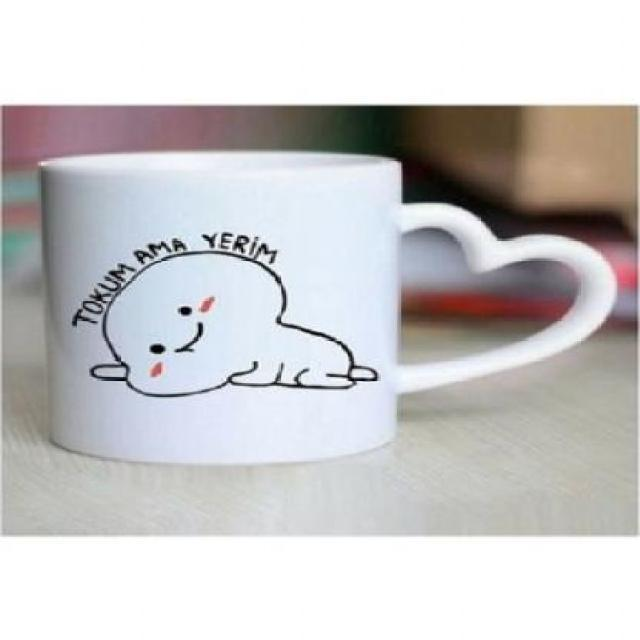taza: (34, 148, 616, 467)
